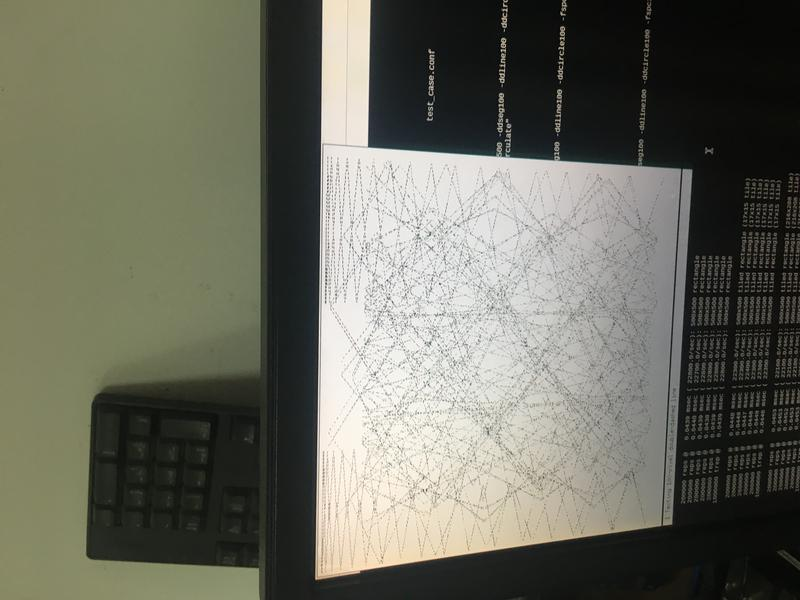xrandr_pass: (284, 126, 695, 584)
